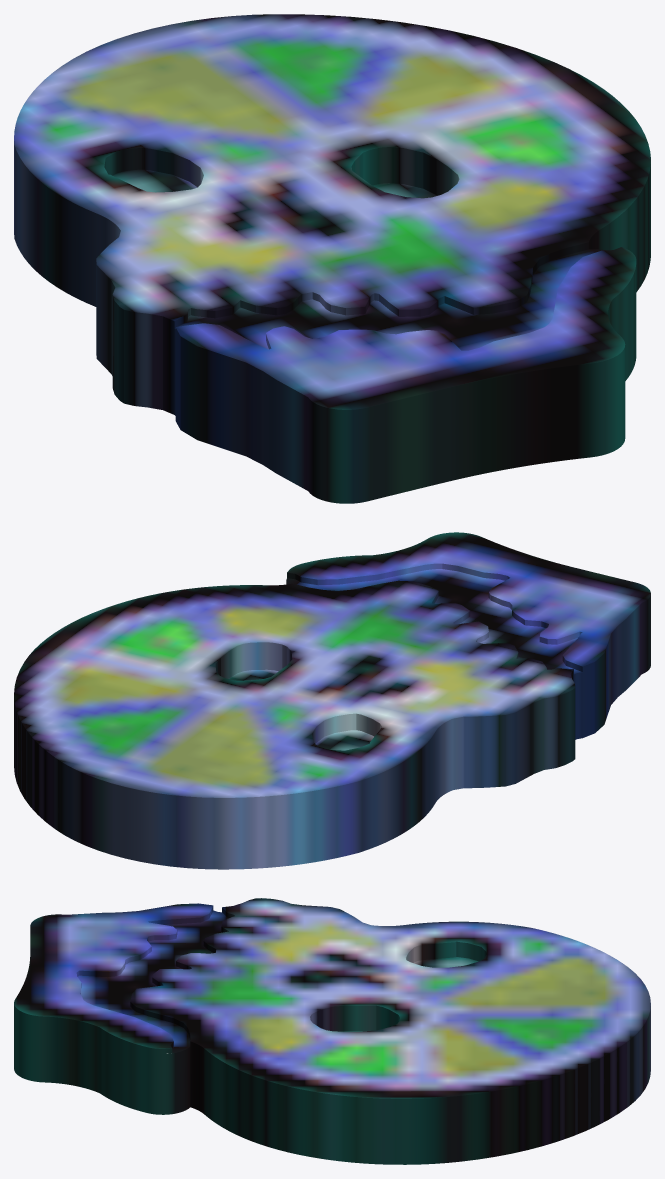
File: muro del mar 3.dae
The picture shows the model from 3 angles, top to bottom: view 1: azimuth 30°, elevation 25°; view 2: azimuth 150°, elevation 25°; view 3: azimuth 270°, elevation 25°; orthographic projection. The views are drawn at different scales.
Parts seen in each view (by area): view 1: SketchUp (×3); view 2: SketchUp (×3); view 3: SketchUp (×3).
Part boxes in pixels (x1,y1,x2,y2): SketchUp (×3): [14, 14, 650, 503]; SketchUp (×3): [14, 532, 650, 869]; SketchUp (×3): [14, 898, 650, 1164].
Bounding box in the file's own units: 5.31 × 7.12 × 0.8125.
